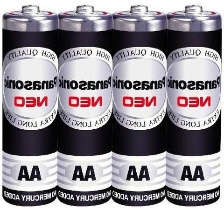battery: (162, 1, 224, 208), (54, 3, 116, 209), (0, 3, 61, 211), (110, 3, 170, 209)
